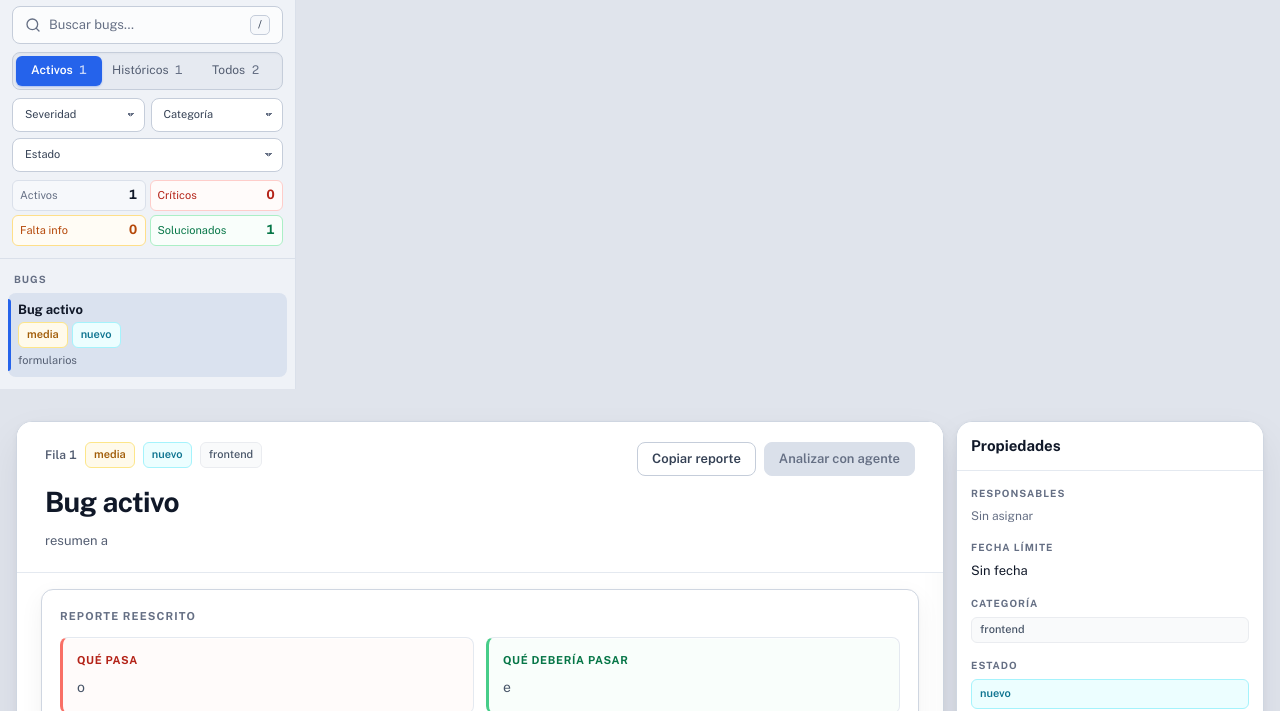
Test: BugsScreen — estados › filtrar por estado oculta los bugs que no coinciden
Click the tab "Todos 2" at (236, 71), box [193,56,279,86]
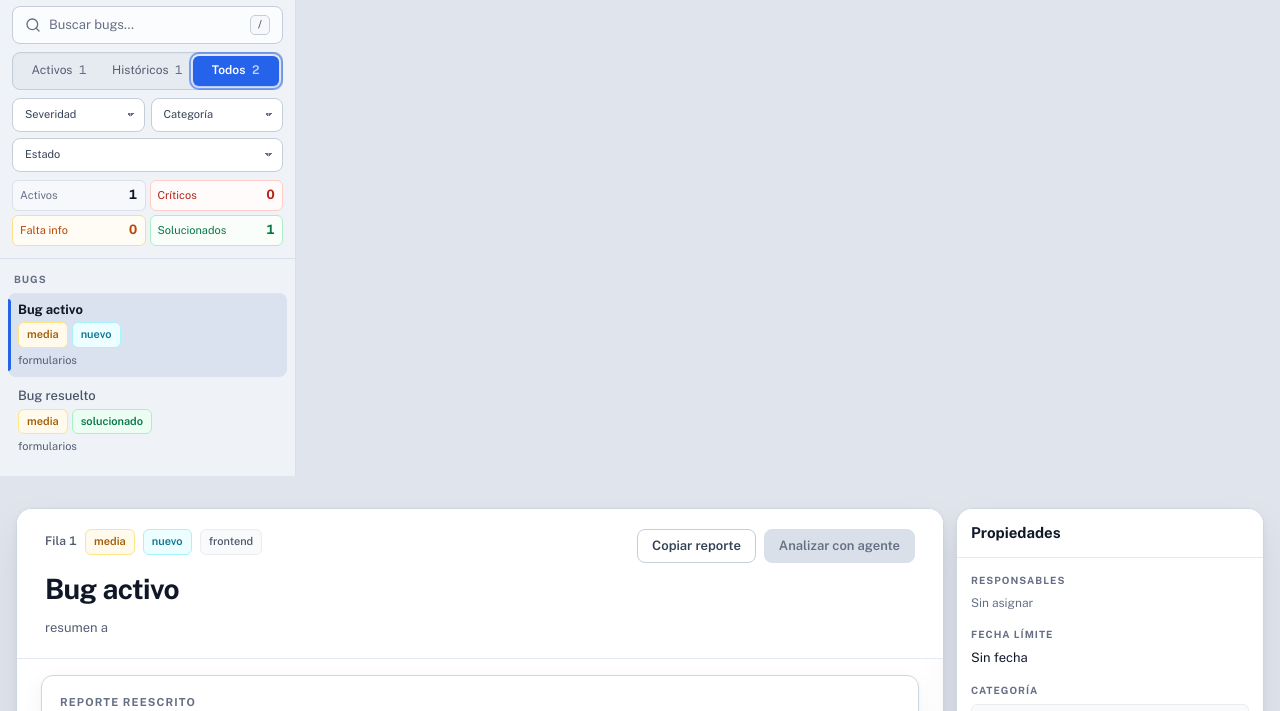
Expected: the text "Bug activo" is shown, [18,302,83,317]
Expected: the text "Bug resuelto" is shown, [18,388,96,403]
Select "solucionado" in the dropdown named "filtrar por estado" at (148, 155), box [12,138,283,172]
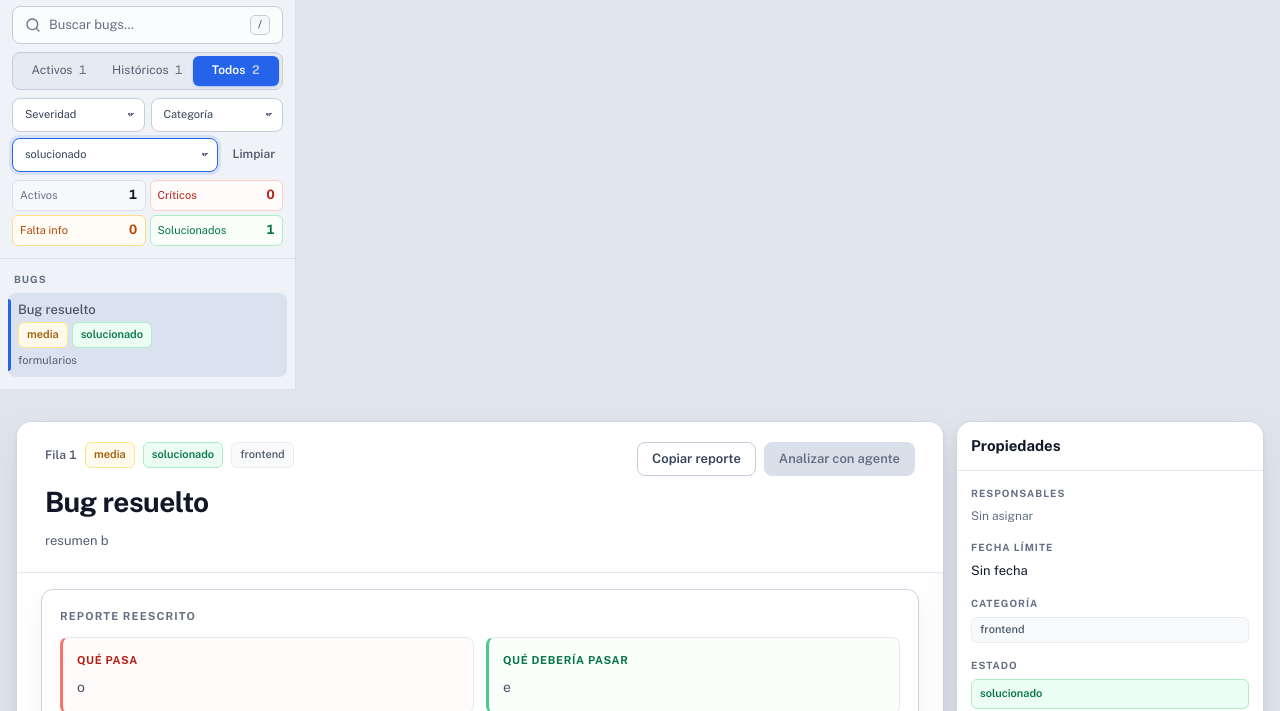
Expected: the text "Bug resuelto" is shown, [18,302,96,317]
Expected: the button "Bug activo" is gone
